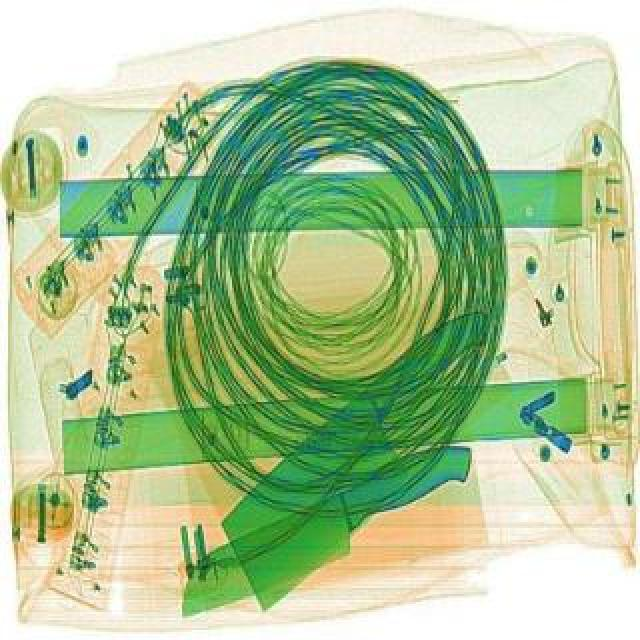knife: (178, 294, 554, 610), (154, 426, 494, 622)
